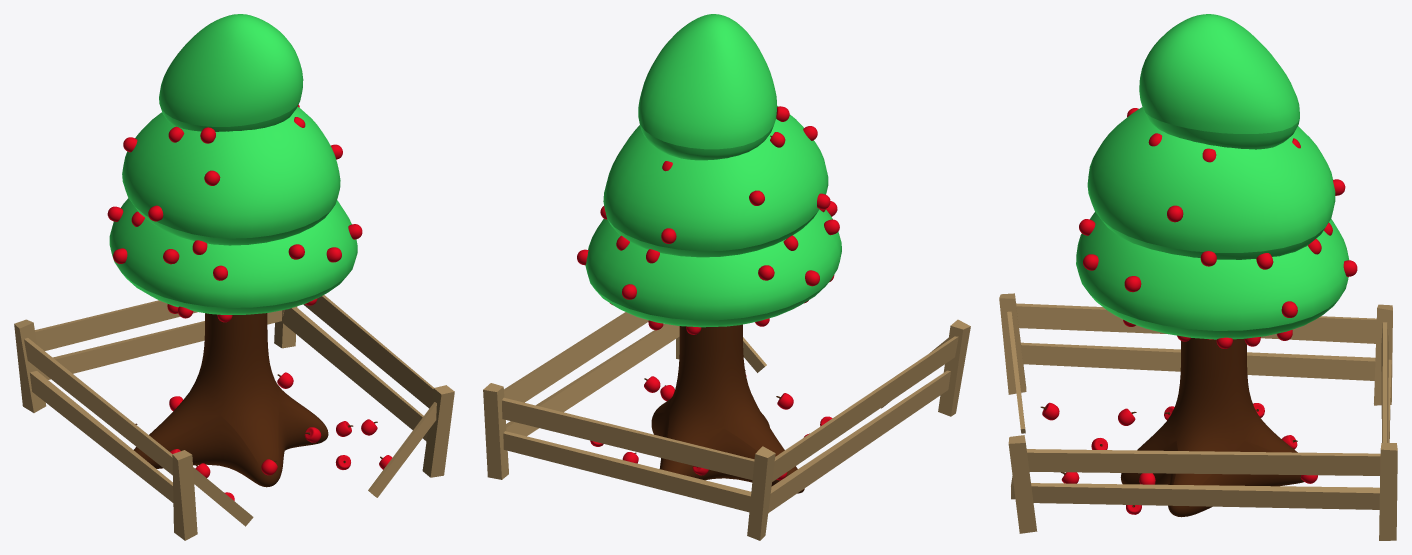
File: FoodSource1.fbx
3 renders of one model, left to right at view 1: azimuth 30°, elevation 25°; view 2: azimuth 150°, elevation 25°; view 3: azimuth 270°, elevation 25°, orthographic. The views are drawn at different scales.
Parts seen in each view (by area): view 1: FoodSource1, Apple.001; view 2: FoodSource1, Apple.001; view 3: FoodSource1, Apple.001.
Boxes of the visible parts, left/top/right/bottom form: FoodSource1: left=14, top=14, right=454, bottom=540; Apple.001: left=107, top=104, right=392, bottom=500; FoodSource1: left=483, top=14, right=970, bottom=540; Apple.001: left=577, top=106, right=839, bottom=480; FoodSource1: left=999, top=14, right=1397, bottom=540; Apple.001: left=1040, top=108, right=1357, bottom=514.
Size of the model in its own units: 6.27 by 8.9 by 6.76.
